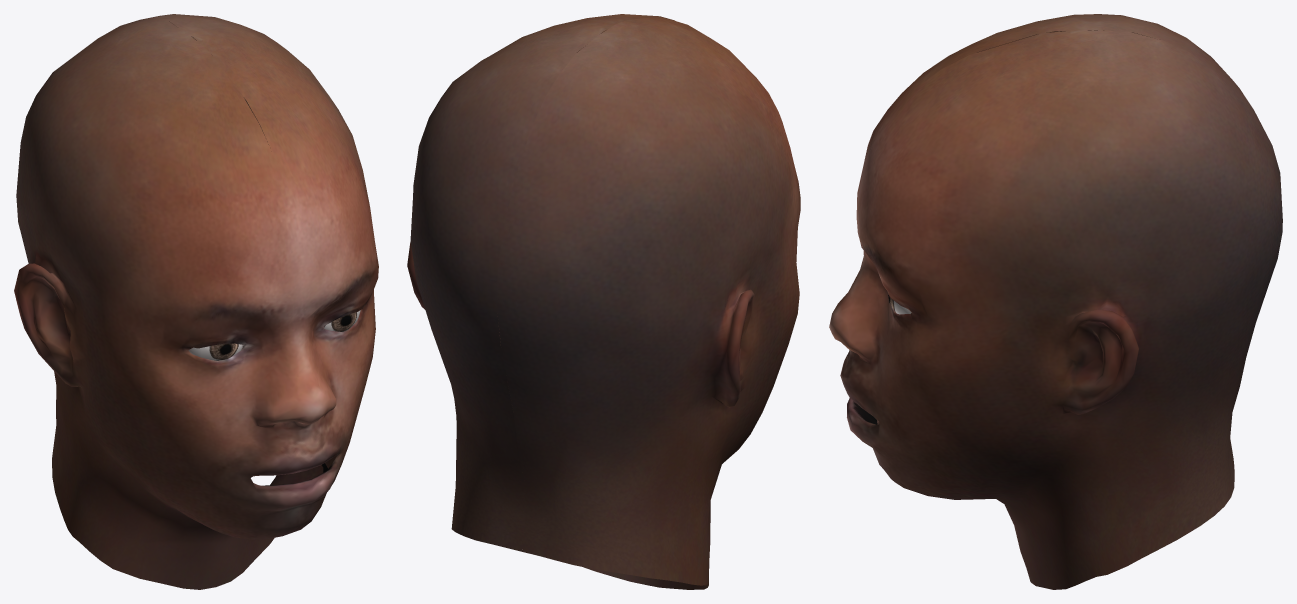
File: talk_000003.obj
The picture shows the model from 3 angles, left to right: view 1: azimuth 30°, elevation 25°; view 2: azimuth 150°, elevation 25°; view 3: azimuth 270°, elevation 25°; orthographic projection. The views are drawn at different scales.
Visible parts, largest first — view 1: model.002_model.004; view 2: model.002_model.004; view 3: model.002_model.004.
Part boxes in pixels (x1,y1,x2,y2): model.002_model.004: (14, 14, 378, 589); model.002_model.004: (407, 14, 800, 589); model.002_model.004: (829, 14, 1282, 589).
Size of the model in its own units: 0.4496 by 0.7363 by 0.554.
1 material, 1 textured.
